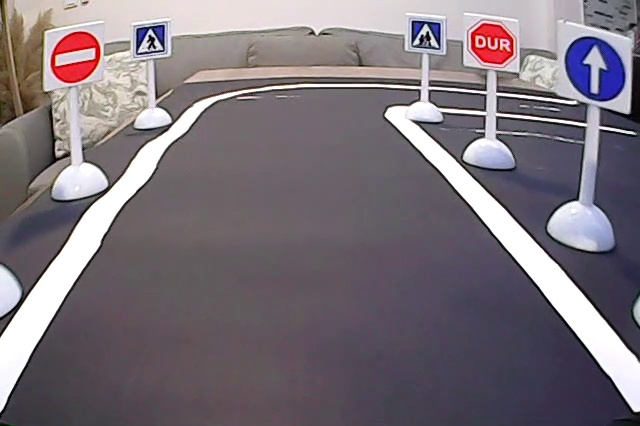do not enter: (48, 27, 102, 91)
pedestrian crossing: (131, 21, 171, 58)
school crossing: (407, 16, 444, 53)
stop sign: (465, 18, 520, 69)
